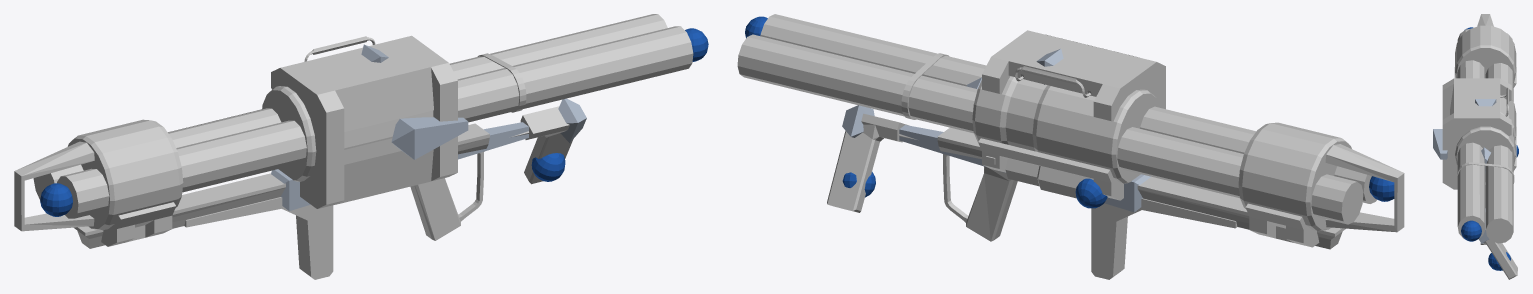
Rendered from Rocket Launcher.obj.
3 renders of one model, left to right at view 1: azimuth 30°, elevation 25°; view 2: azimuth 150°, elevation 25°; view 3: azimuth 270°, elevation 25°, orthographic. The views are drawn at different scales.
Parts seen in each view (by area): view 1: __unnamed, frame_body, frame_gun, _primary_ejection, _left_hand_marine, frame_foregrip, _primary_trigger; view 2: __unnamed, frame_gun, _ground_point, frame_foregrip, _primary_ejection; view 3: __unnamed, _primary_trigger, frame_body, frame_push_bar, frame_tubes, _left_hand_cyborg, _left_hand_marine, frame_foregrip.
Boxes of the visible parts, bbox=[...] form: __unnamed: bbox=[14, 14, 693, 279]; frame_body: bbox=[391, 117, 468, 159]; frame_gun: bbox=[271, 122, 528, 211]; _primary_ejection: bbox=[40, 183, 72, 216]; _left_hand_marine: bbox=[531, 153, 564, 181]; frame_foregrip: bbox=[558, 98, 586, 143]; _primary_trigger: bbox=[685, 28, 708, 61]; __unnamed: bbox=[737, 14, 1404, 279]; frame_gun: bbox=[899, 125, 1150, 212]; _ground_point: bbox=[1075, 178, 1107, 208]; frame_foregrip: bbox=[842, 105, 874, 137]; _primary_ejection: bbox=[1369, 176, 1394, 201]; __unnamed: bbox=[1442, 14, 1517, 279]; _primary_trigger: bbox=[1461, 220, 1481, 241]; frame_body: bbox=[1433, 129, 1447, 159]; frame_push_bar: bbox=[1475, 99, 1496, 106]; frame_tubes: bbox=[1481, 147, 1490, 172]; _left_hand_cyborg: bbox=[1493, 252, 1510, 270]; _left_hand_marine: bbox=[1488, 253, 1498, 270]; frame_foregrip: bbox=[1478, 220, 1489, 243].
Size of the model in its own units: 46.25 by 13.68 by 8.15.
